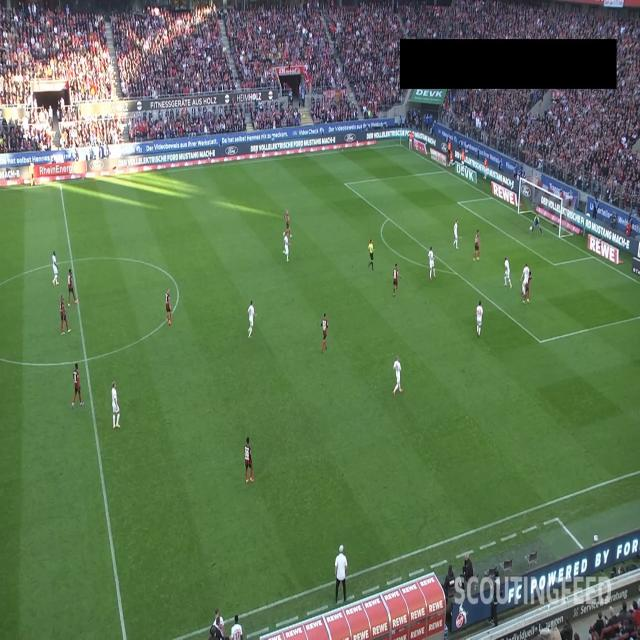ball: (530, 225, 532, 231)
